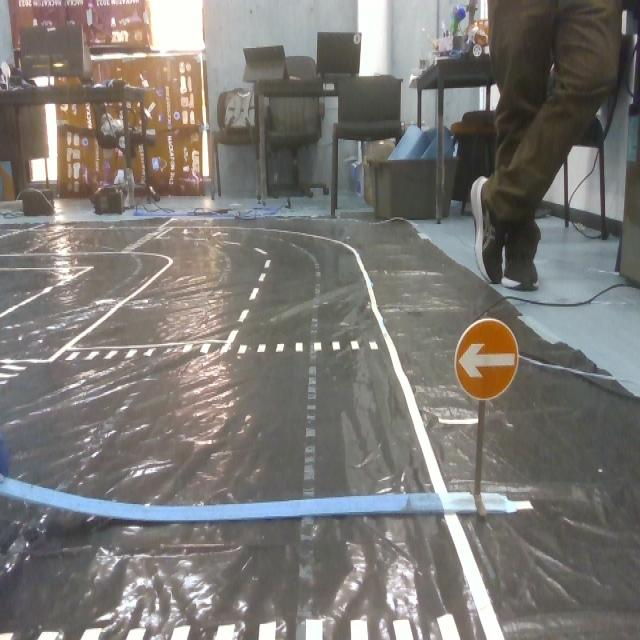forward: (450, 315, 521, 401)
